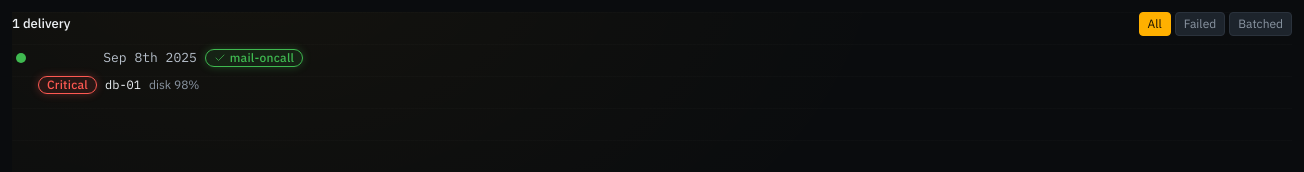
it: DeliveryTimeline › shows the chip-specific empty text instead of the parent empty state
The image size is (1304, 172).
Click the button "Failed" at [1200, 24], box 1175,12 -> 1225,36
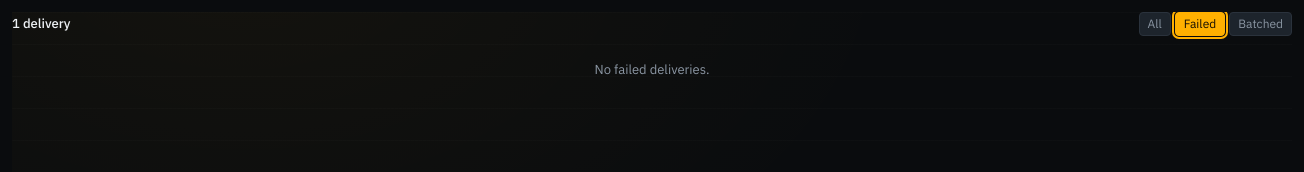
Expected: the text "No failed deliveries." is shown, 594,61 -> 710,78
